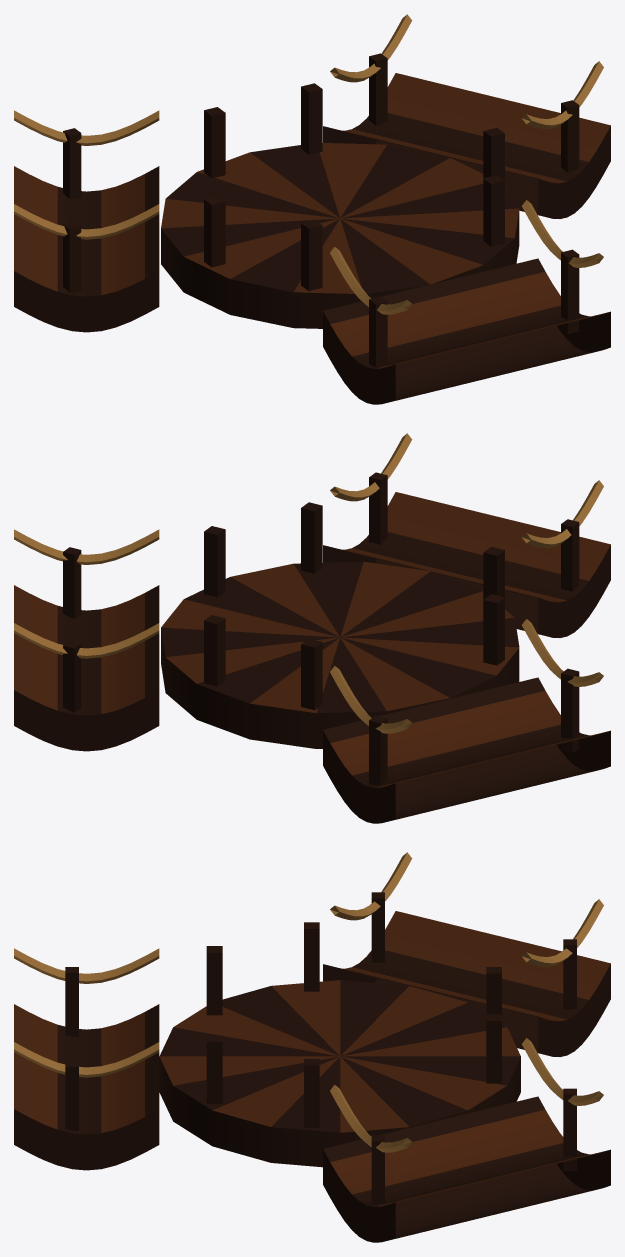
Rendered from MODULE_DESERT_BRIDGE_PLATFORM.fbx.
3 views of the same model, one above another, from view 1: azimuth 30°, elevation 25°; view 2: azimuth 150°, elevation 25°; view 3: azimuth 270°, elevation 25° (orthographic).
Visible parts, largest first — view 1: MODULE_DESERT_BRIDGE_PLATFORM__export, MODULE_DESERT_BRIDGE_PLATFORM_DECOR__export; view 2: MODULE_DESERT_BRIDGE_PLATFORM__export, MODULE_DESERT_BRIDGE_PLATFORM_DECOR__export; view 3: MODULE_DESERT_BRIDGE_PLATFORM__export, MODULE_DESERT_BRIDGE_PLATFORM_DECOR__export.
Boxes of the visible parts, x1=… form: MODULE_DESERT_BRIDGE_PLATFORM__export: x1=14, y1=73, x2=610, y2=404; MODULE_DESERT_BRIDGE_PLATFORM_DECOR__export: x1=14, y1=14, x2=603, y2=366; MODULE_DESERT_BRIDGE_PLATFORM__export: x1=14, y1=492, x2=610, y2=823; MODULE_DESERT_BRIDGE_PLATFORM_DECOR__export: x1=14, y1=433, x2=603, y2=784; MODULE_DESERT_BRIDGE_PLATFORM__export: x1=14, y1=911, x2=610, y2=1242; MODULE_DESERT_BRIDGE_PLATFORM_DECOR__export: x1=14, y1=852, x2=603, y2=1204.
Size of the model in its own units: 61 by 12.1 by 52.83.
